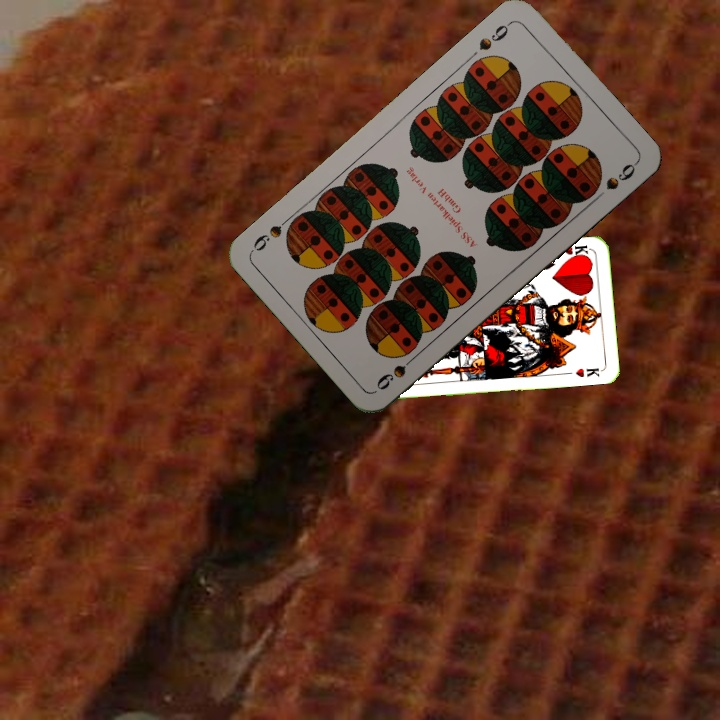HK: (560, 241, 593, 261)
S9: (372, 349, 421, 393), (474, 17, 515, 53)
